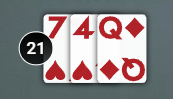4: (68, 14, 97, 43)
7: (40, 13, 70, 42)
q: (95, 14, 125, 43)
